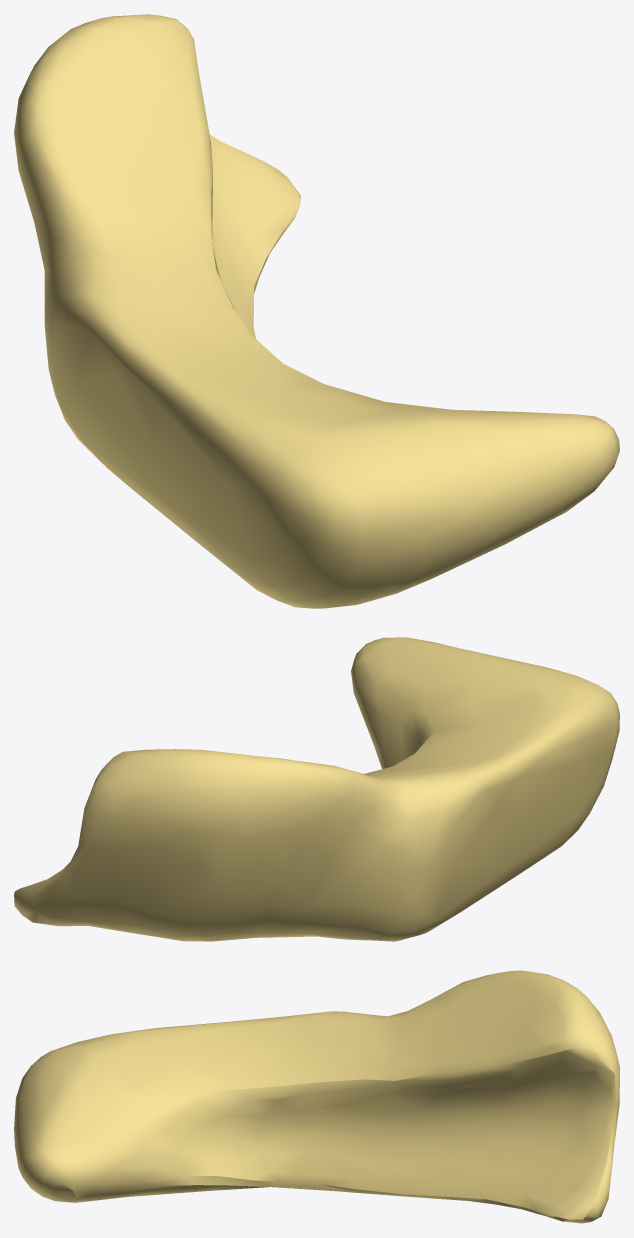
File: fma73048_mm2793.glb
3 renders of one model, top to bottom at view 1: azimuth 30°, elevation 25°; view 2: azimuth 150°, elevation 25°; view 3: azimuth 270°, elevation 25°, orthographic. The views are drawn at different scales.
Visible parts, largest first — view 1: FMA73048_MM2793; view 2: FMA73048_MM2793; view 3: FMA73048_MM2793.
Part boxes in pixels (left/top/right/bottom): FMA73048_MM2793: left=14, top=14, right=619, bottom=608; FMA73048_MM2793: left=14, top=637, right=619, bottom=941; FMA73048_MM2793: left=14, top=970, right=619, bottom=1223.
Bounding box in the file's own units: 0.00471 × 0.0036 × 0.00896.
